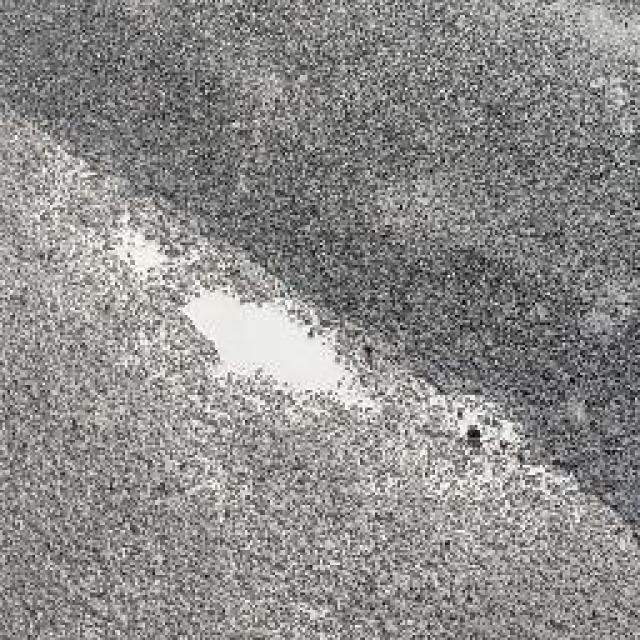puddle: (182, 280, 372, 409)
